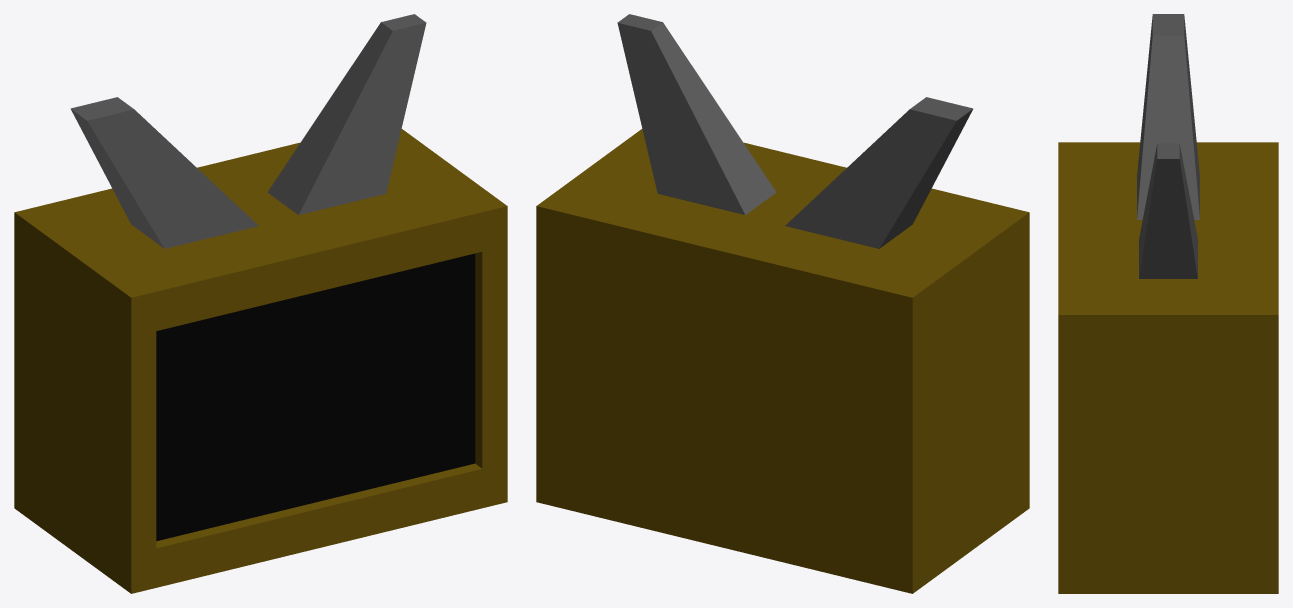
File: Old Tv.fbx
3 views of the same model, side by side, from view 1: azimuth 30°, elevation 25°; view 2: azimuth 150°, elevation 25°; view 3: azimuth 270°, elevation 25° (orthographic). The views are drawn at different scales.
Visible parts, largest first — view 1: pCube2; view 2: pCube2; view 3: pCube2.
Part boxes in pixels (<box>): pCube2: <box>14,14,507,593</box>; pCube2: <box>536,14,1029,593</box>; pCube2: <box>1058,14,1278,593</box>.
Bounding box in the file's own units: 2.49 × 2.83 × 1.34.
